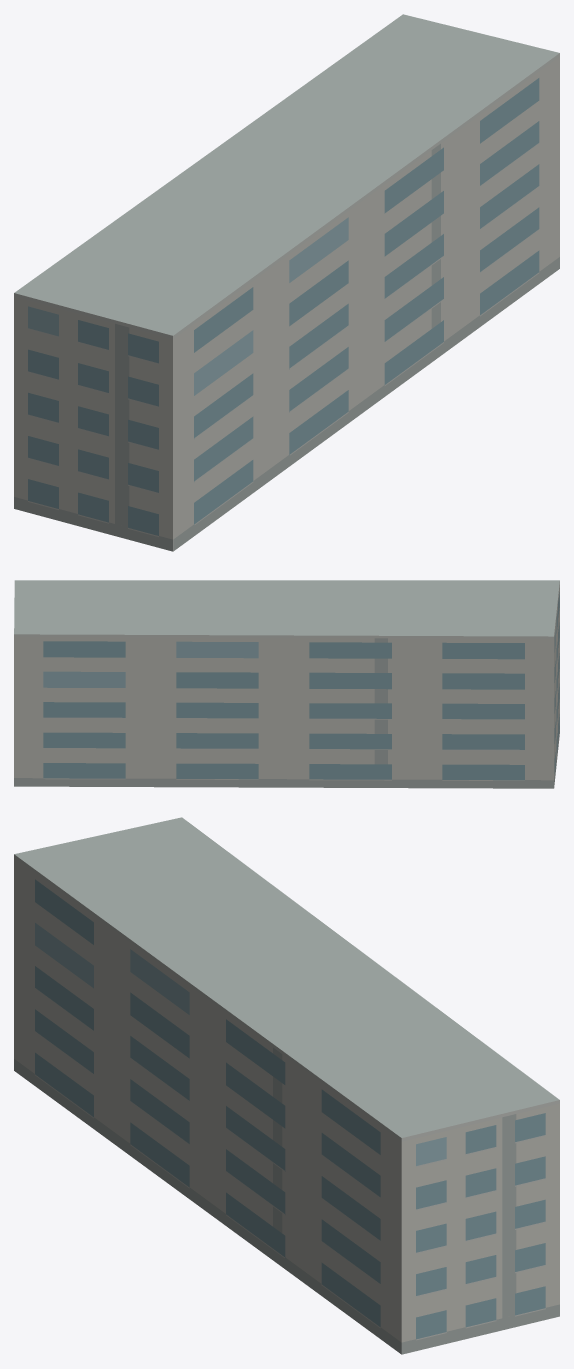
Rendered from residential-be6ed65d-97a8-436e-b8e4-2bb543615558.glb.
The picture shows the model from 3 angles, top to bottom: view 1: azimuth 30°, elevation 25°; view 2: azimuth 150°, elevation 25°; view 3: azimuth 270°, elevation 25°; orthographic projection. The views are drawn at different scales.
Visible parts, largest first — view 1: residential-be6ed65d-97a8-436e-b8e4-2bb543615558.tmp; view 2: residential-be6ed65d-97a8-436e-b8e4-2bb543615558.tmp; view 3: residential-be6ed65d-97a8-436e-b8e4-2bb543615558.tmp.
Part boxes in pixels (bbox=[...]): residential-be6ed65d-97a8-436e-b8e4-2bb543615558.tmp: bbox=[14, 14, 559, 551]; residential-be6ed65d-97a8-436e-b8e4-2bb543615558.tmp: bbox=[14, 580, 559, 788]; residential-be6ed65d-97a8-436e-b8e4-2bb543615558.tmp: bbox=[14, 817, 559, 1354].
Size of the model in its own units: 48.47 by 15.25 by 34.85.
